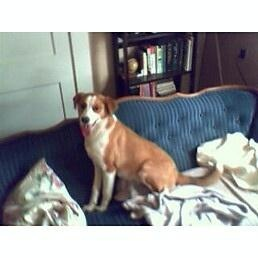dog: (73, 94, 220, 219)
sofa: (2, 86, 258, 227)
